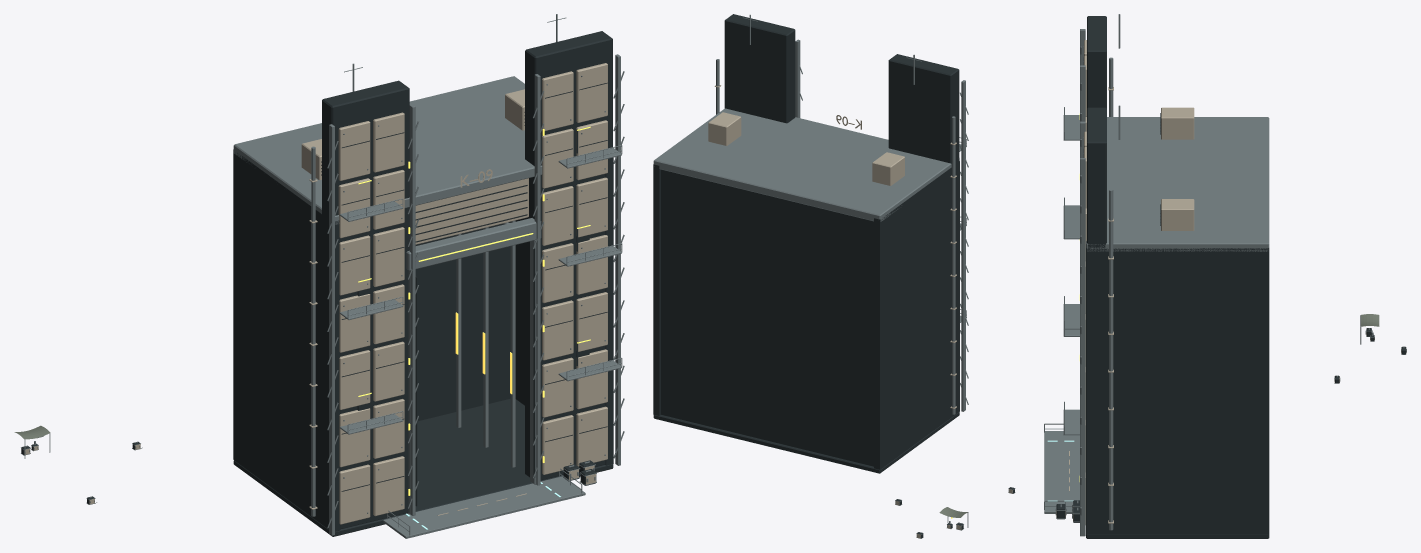
The model's file is k09-hangar-field.glb.
3 views of the same model, side by side, from view 1: azimuth 30°, elevation 25°; view 2: azimuth 150°, elevation 25°; view 3: azimuth 270°, elevation 25° (orthographic). The views are drawn at different scales.
Parts seen in each view (by area): view 1: K09_Dark, K09_Painted, K09_Steel, K09_Amber; view 2: K09_Dark, K09_Steel, K09_Painted; view 3: K09_Dark, K09_Steel, K09_Painted.
Part boxes in pixels (left/top/right/bottom): K09_Dark: left=21, top=31, right=613, bottom=536; K09_Painted: left=24, top=63, right=607, bottom=524; K09_Steel: left=21, top=14, right=624, bottom=538; K09_Amber: left=358, top=126, right=590, bottom=495; K09_Dark: left=653, top=14, right=1014, bottom=538; K09_Steel: left=653, top=14, right=1015, bottom=538; K09_Painted: left=708, top=85, right=1012, bottom=538; K09_Dark: left=1056, top=16, right=1406, bottom=538; K09_Steel: left=1044, top=14, right=1406, bottom=536; K09_Painted: left=1056, top=40, right=1406, bottom=524.
Bounding box in the file's own units: 57.45 × 55.13 × 43.58.
